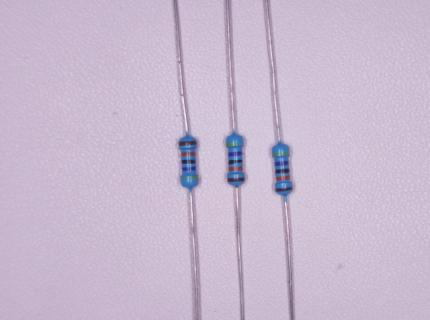Black band: (182, 159, 196, 164), (228, 160, 242, 164), (276, 169, 289, 173)
Brown band: (178, 141, 197, 146), (227, 177, 244, 182), (276, 187, 292, 191)
Orange band: (276, 176, 290, 181), (229, 167, 243, 171), (182, 152, 195, 156)
Violet band: (228, 152, 242, 157), (275, 161, 289, 166), (182, 167, 196, 171)
Yellow band: (181, 176, 199, 180), (272, 152, 289, 156), (226, 143, 243, 146)
